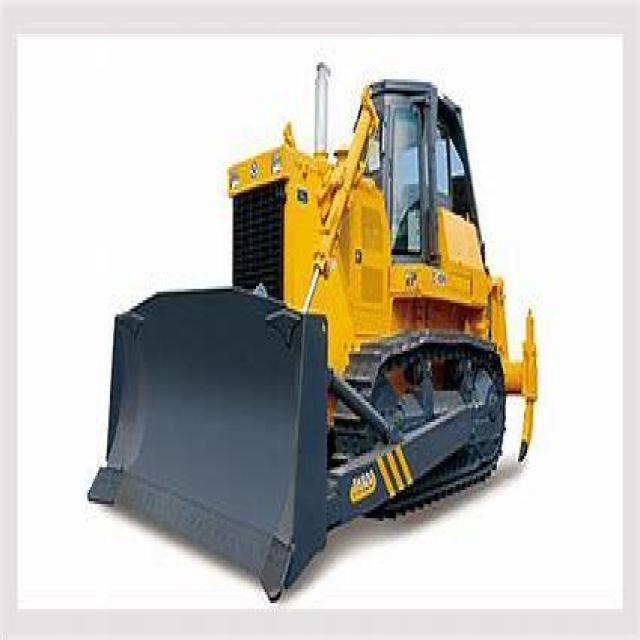buldozerpayloadergrader: (86, 51, 542, 600)
